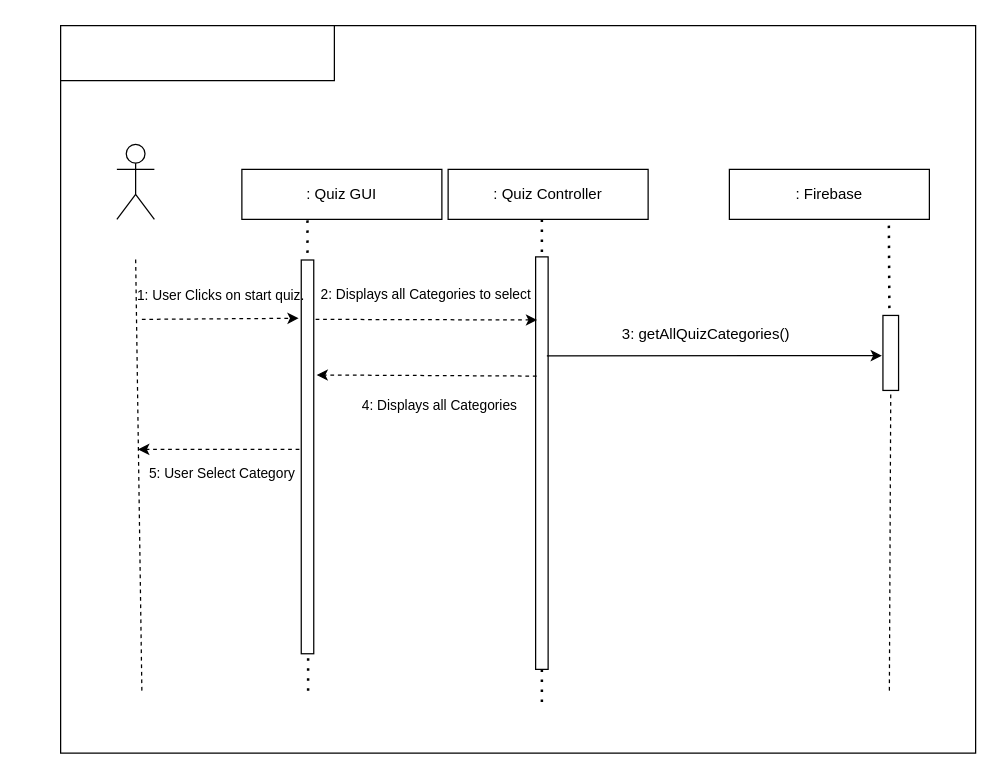
This 998x775 diagram has some shape labels left out. The shapes that lost their labels are listed below. From the top down, each one's box as (x1, y1, x2, y2) in pixels, then its label:
(59, 24, 334, 81): sd Select Quiz Category
(116, 143, 154, 219): User
